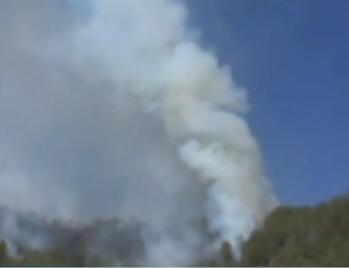yanwu: (0, 1, 265, 265)
